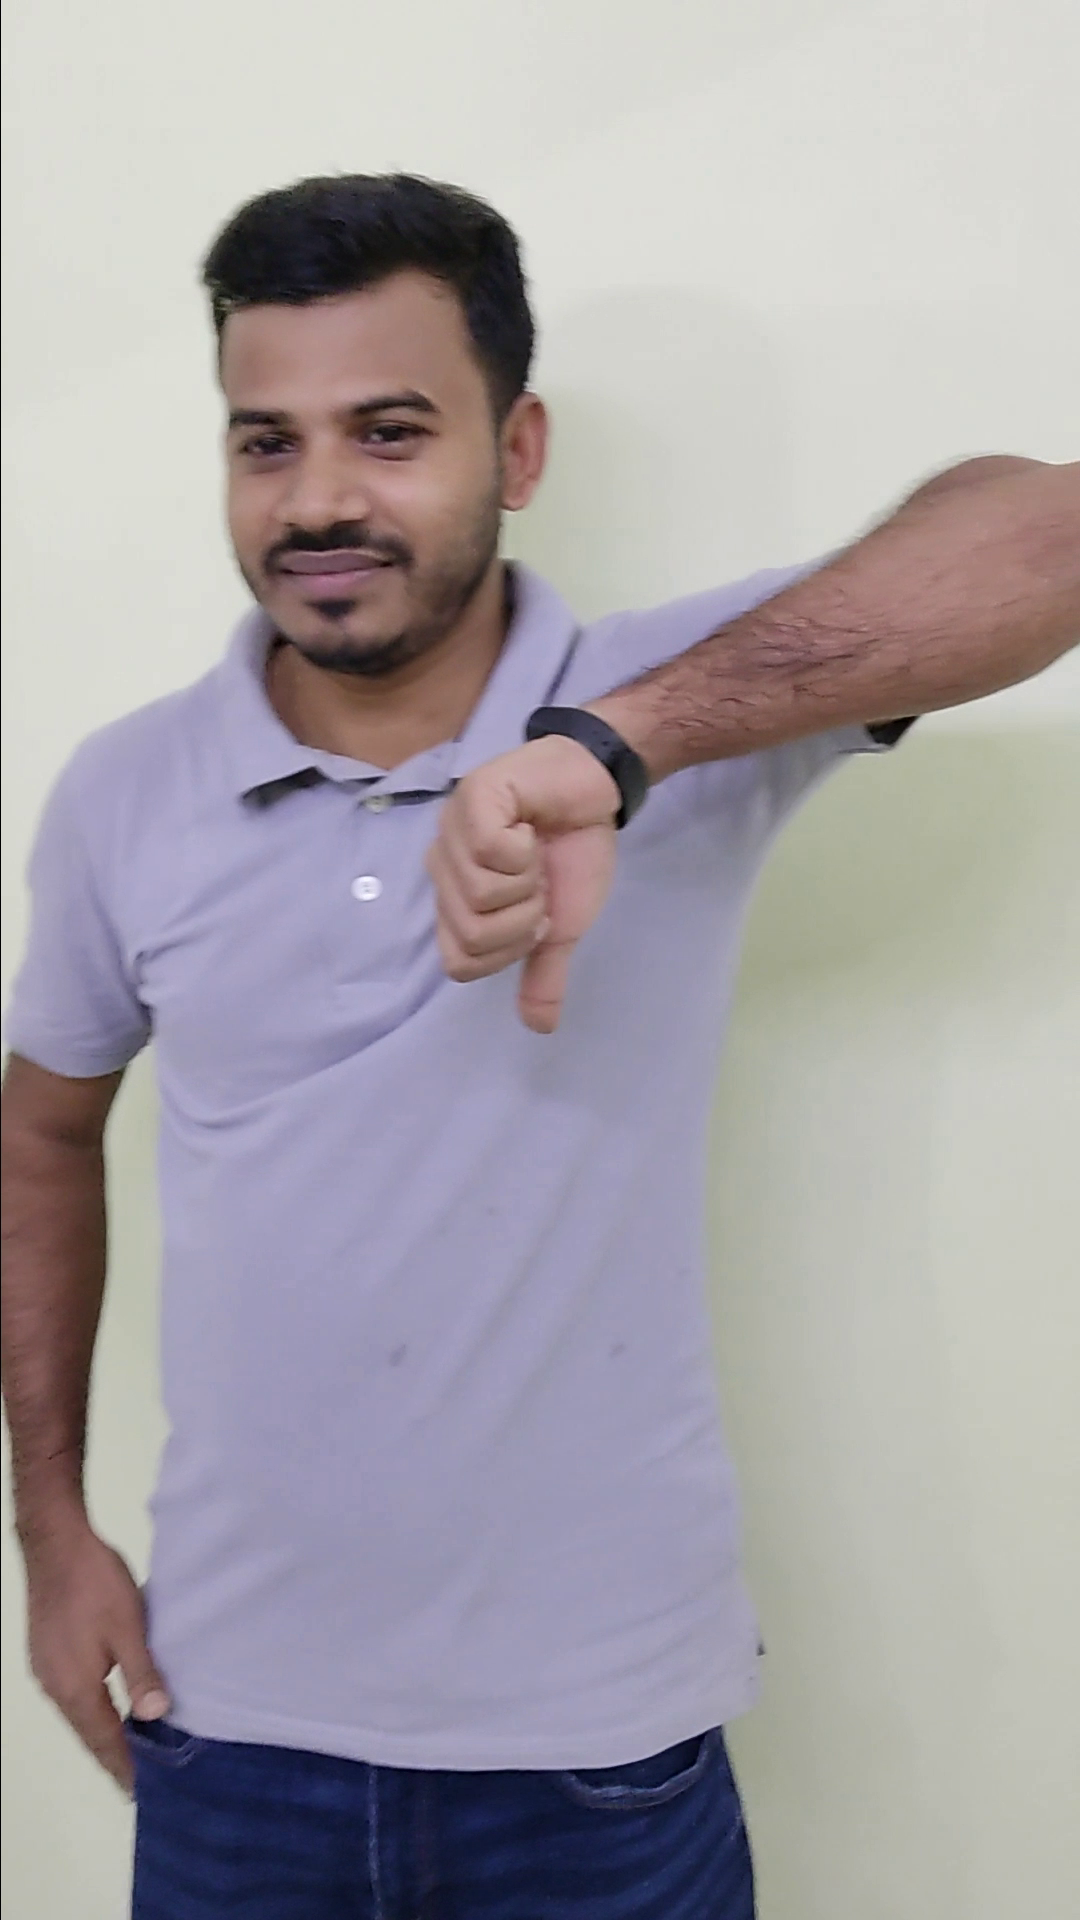Dislike: (411, 709, 636, 1047)
None: (20, 1505, 185, 1803)
